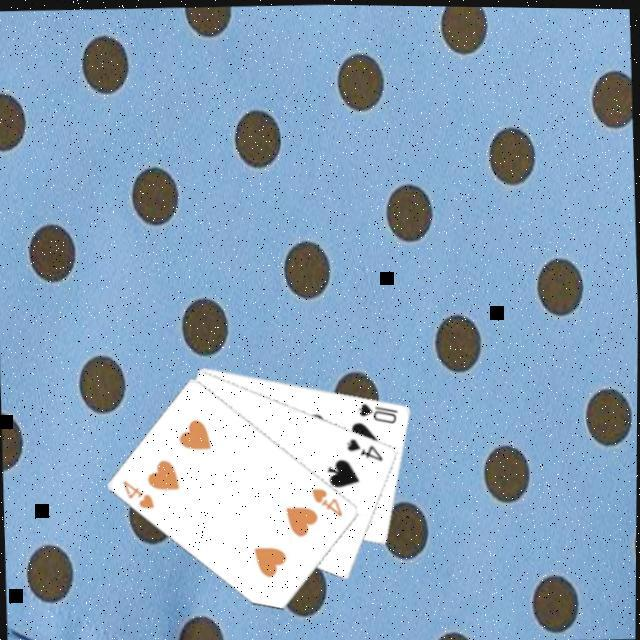10S: (356, 395, 403, 426)
4H: (120, 474, 159, 510), (309, 482, 347, 518)
4S: (344, 431, 388, 463)
